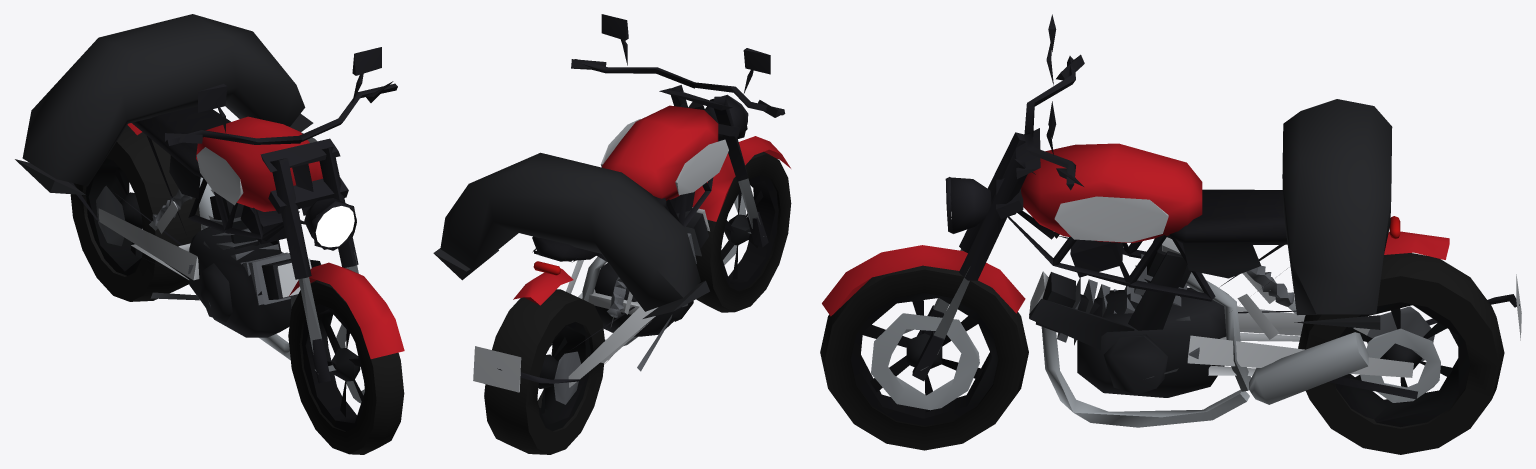
Rendered from bike04_scrambler.glb.
3 renders of one model, left to right at view 1: azimuth 30°, elevation 25°; view 2: azimuth 150°, elevation 25°; view 3: azimuth 270°, elevation 25°, orthographic. The views are drawn at different scales.
Visible parts, largest first — view 1: body, luggage, wheel_rear, wheel_front; view 2: body, luggage, wheel_rear, wheel_front; view 3: body, wheel_front, wheel_rear, luggage.
Boxes of the visible parts, x1,y1,x2,y2 form: body: (69, 47, 404, 383); luggage: (15, 14, 313, 194); wheel_rear: (70, 125, 201, 301); wheel_front: (288, 280, 404, 454); body: (473, 14, 790, 395); luggage: (433, 152, 709, 318); wheel_rear: (484, 289, 604, 454); wheel_front: (695, 151, 791, 312); body: (822, 14, 1521, 427); wheel_front: (820, 265, 1028, 450); wheel_rear: (1298, 253, 1504, 454); luggage: (1282, 99, 1392, 329).
Bounding box in the file's own units: 1.05 × 1.28 × 2.13.
